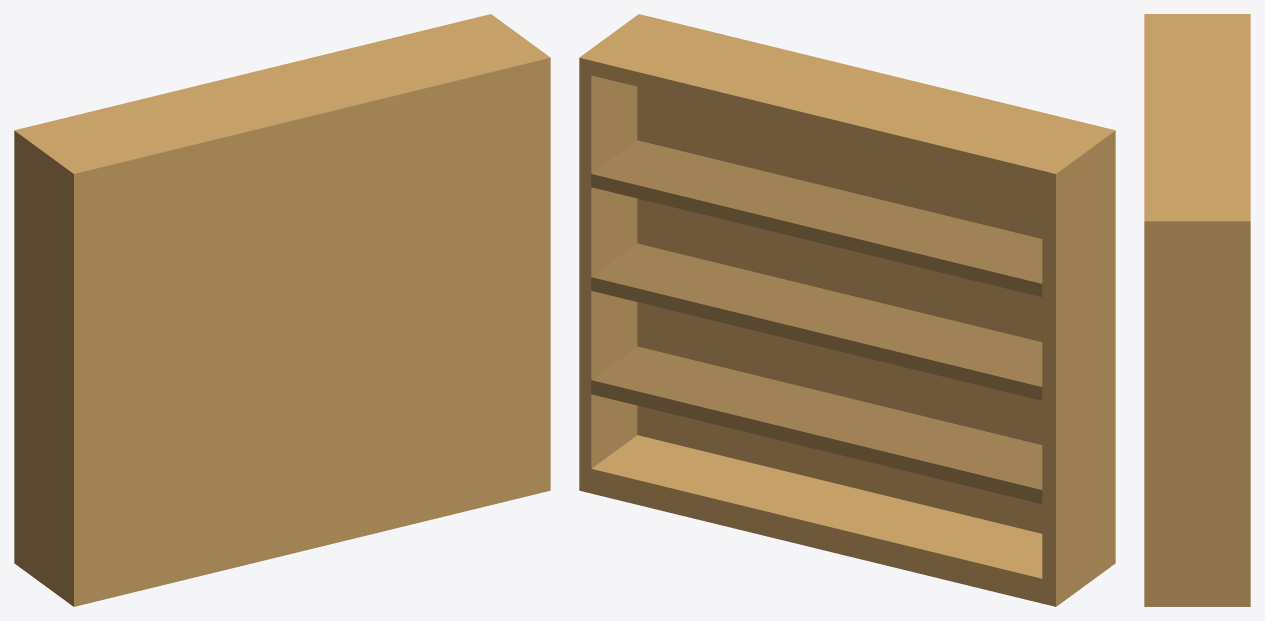
Rendered from SHELF1.fbx.
The picture shows the model from 3 angles, left to right: view 1: azimuth 30°, elevation 25°; view 2: azimuth 150°, elevation 25°; view 3: azimuth 270°, elevation 25°; orthographic projection. The views are drawn at different scales.
Parts seen in each view (by area): view 1: shelf; view 2: shelf; view 3: shelf.
Boxes of the visible parts, x1,y1,x2,y2 form: shelf: [14, 14, 550, 606]; shelf: [579, 14, 1115, 606]; shelf: [1144, 14, 1250, 606].
Bounding box in the file's own units: 4.61 × 4 × 1.
